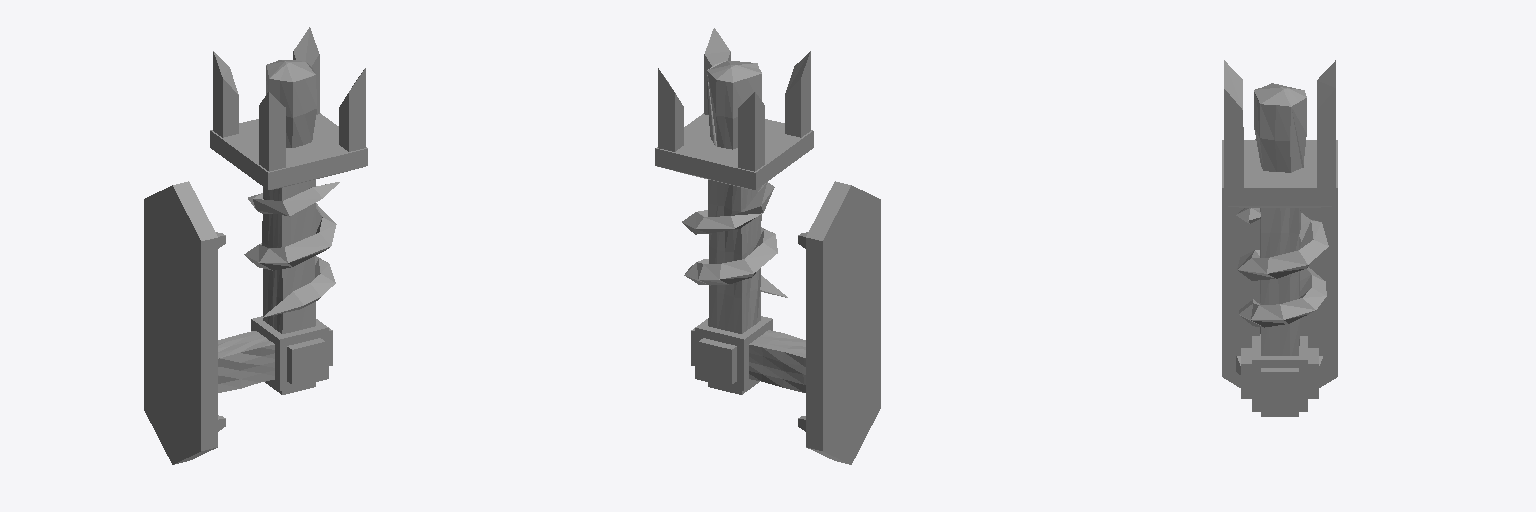
The model's file is torch.obj.
The picture shows the model from 3 angles: view 1: azimuth 30°, elevation 25°; view 2: azimuth 150°, elevation 25°; view 3: azimuth 270°, elevation 25°; orthographic projection.
Visible parts, largest first — view 1: Cube.010_Cube.074; view 2: Cube.010_Cube.074; view 3: Cube.010_Cube.074.
Boxes of the visible parts, x1=… form: Cube.010_Cube.074: x1=144, y1=27, x2=367, y2=464; Cube.010_Cube.074: x1=655, y1=28, x2=880, y2=464; Cube.010_Cube.074: x1=1222, y1=60, x2=1337, y2=416.
Size of the model in its own units: 10 by 21.58 by 6.